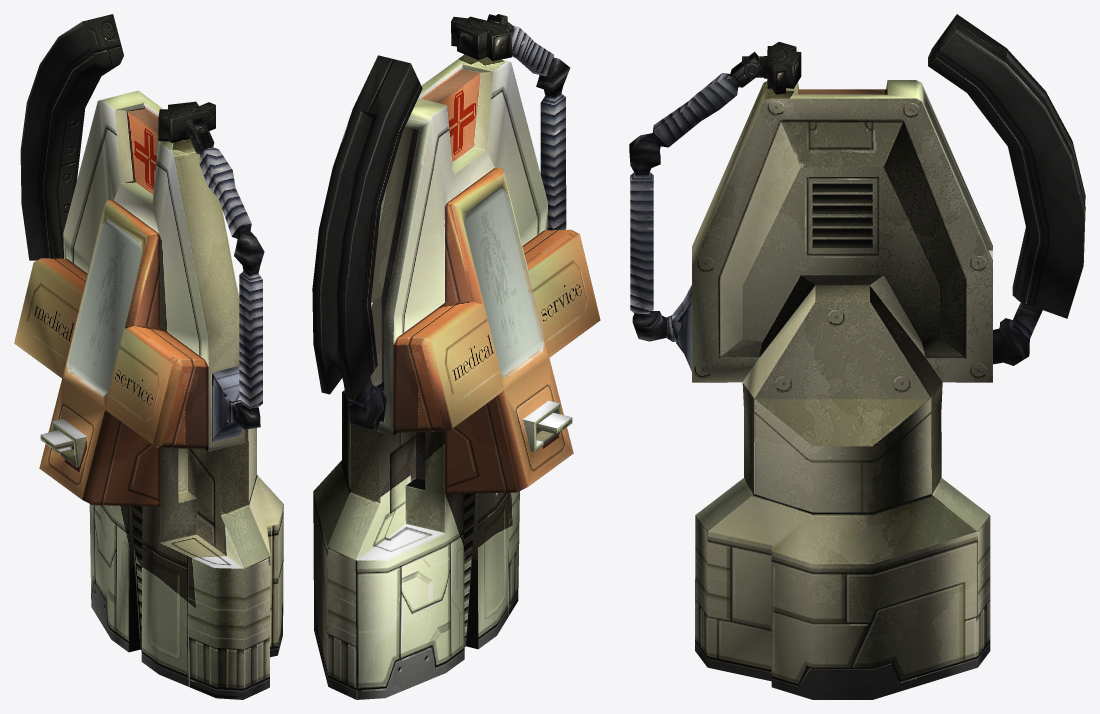
File: medic.glb
3 renders of one model, left to right at view 1: azimuth 30°, elevation 25°; view 2: azimuth 150°, elevation 25°; view 3: azimuth 270°, elevation 25°, orthographic. The views are drawn at different scales.
Visible parts, largest first — view 1: Box01; view 2: Box01; view 3: Box01.
Boxes of the visible parts, <box> form: Box01: <box>14,14,283,699</box>; Box01: <box>312,14,600,699</box>; Box01: <box>629,14,1085,699</box>.
Size of the model in its own units: 49.49 by 127 by 84.65.
1 material, 1 textured.
